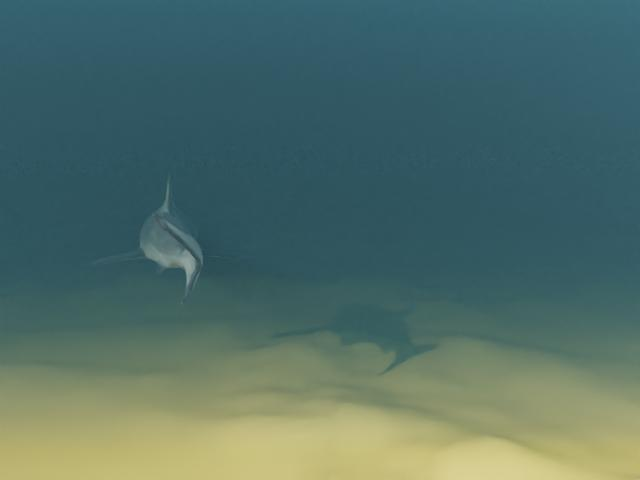Carribean Shark.001: (74, 173, 263, 305)
